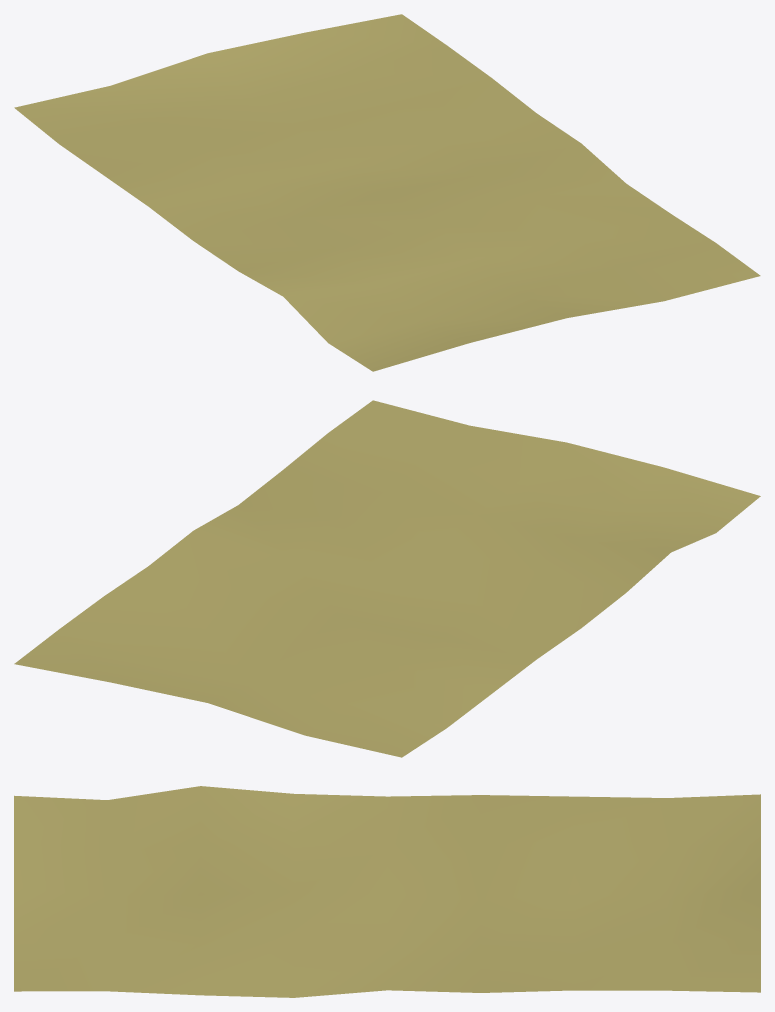
File: cajitqaArena.FBX
The picture shows the model from 3 angles, top to bottom: view 1: azimuth 30°, elevation 25°; view 2: azimuth 150°, elevation 25°; view 3: azimuth 270°, elevation 25°; orthographic projection. The views are drawn at different scales.
Visible parts, largest first — view 1: Object001; view 2: Object001; view 3: Object001.
Part boxes in pixels (box(x1,y1,x2,y2)): Object001: box(14, 14, 760, 371); Object001: box(14, 400, 760, 757); Object001: box(14, 786, 760, 997).
Bounding box in the file's own units: 2364 × 3789 × 86.61.
